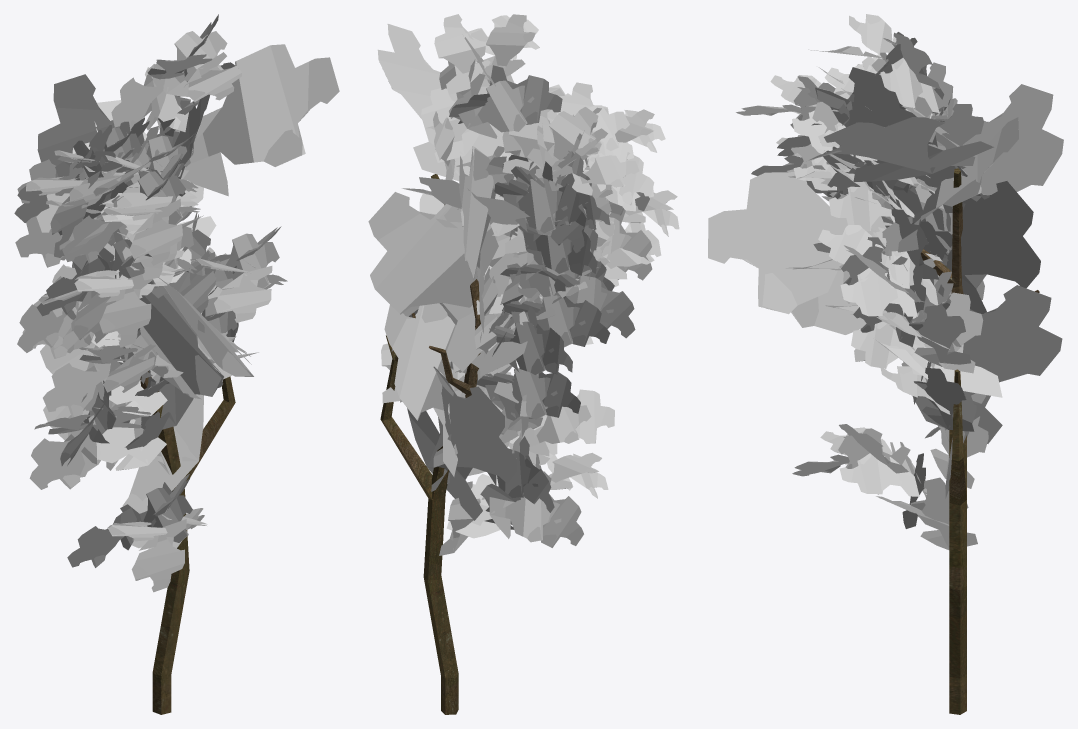
Rendered from tree_2.obj.
3 renders of one model, left to right at view 1: azimuth 30°, elevation 25°; view 2: azimuth 150°, elevation 25°; view 3: azimuth 270°, elevation 25°, orthographic. The views are drawn at different scales.
Parts seen in each view (by area): view 1: Tree_Branch.002_Tree_Branch, Cylinder.001; view 2: Tree_Branch.002_Tree_Branch, Cylinder.001; view 3: Tree_Branch.002_Tree_Branch, Cylinder.001.
Boxes of the visible parts, left/top/right/bottom form: Tree_Branch.002_Tree_Branch: left=14, top=14, right=339, bottom=592; Cylinder.001: left=140, top=371, right=235, bottom=714; Tree_Branch.002_Tree_Branch: left=368, top=14, right=679, bottom=555; Cylinder.001: left=380, top=174, right=480, bottom=714; Tree_Branch.002_Tree_Branch: left=708, top=14, right=1063, bottom=549; Cylinder.001: left=920, top=168, right=1039, bottom=714.
Bounding box in the file's own units: 7.71 × 18.16 × 8.49.
